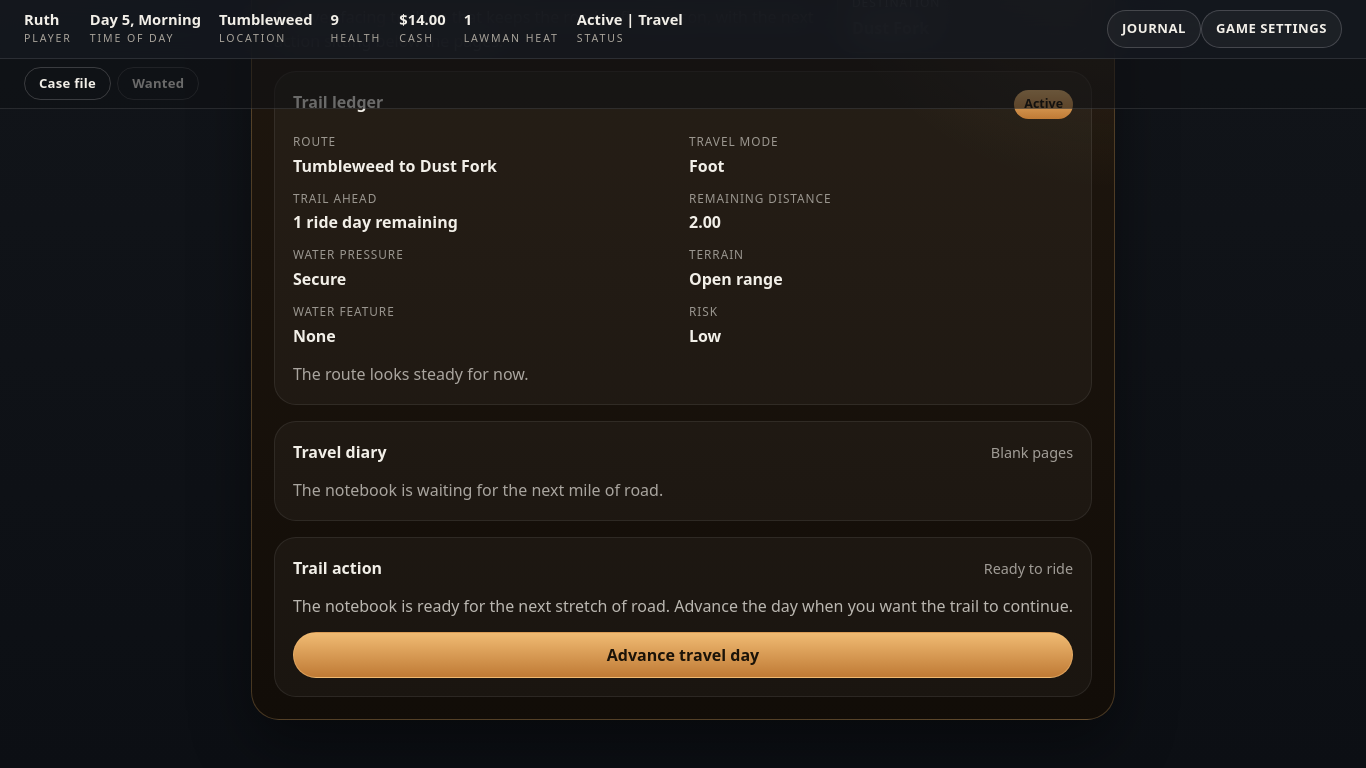
Test: AppShell › shows a travel mutation in both the HUD and trail summary while the session refresh is pending
The width and height of the screenshot is (1366, 768).
(page scrolled)
Check: the text "Day 5, Morning" is shown, box [90, 11, 201, 29]
Check: the text "Trail ledger" is shown, box [293, 90, 383, 114]
Click the button "Advance travel day" at (683, 655), box [293, 632, 1073, 678]
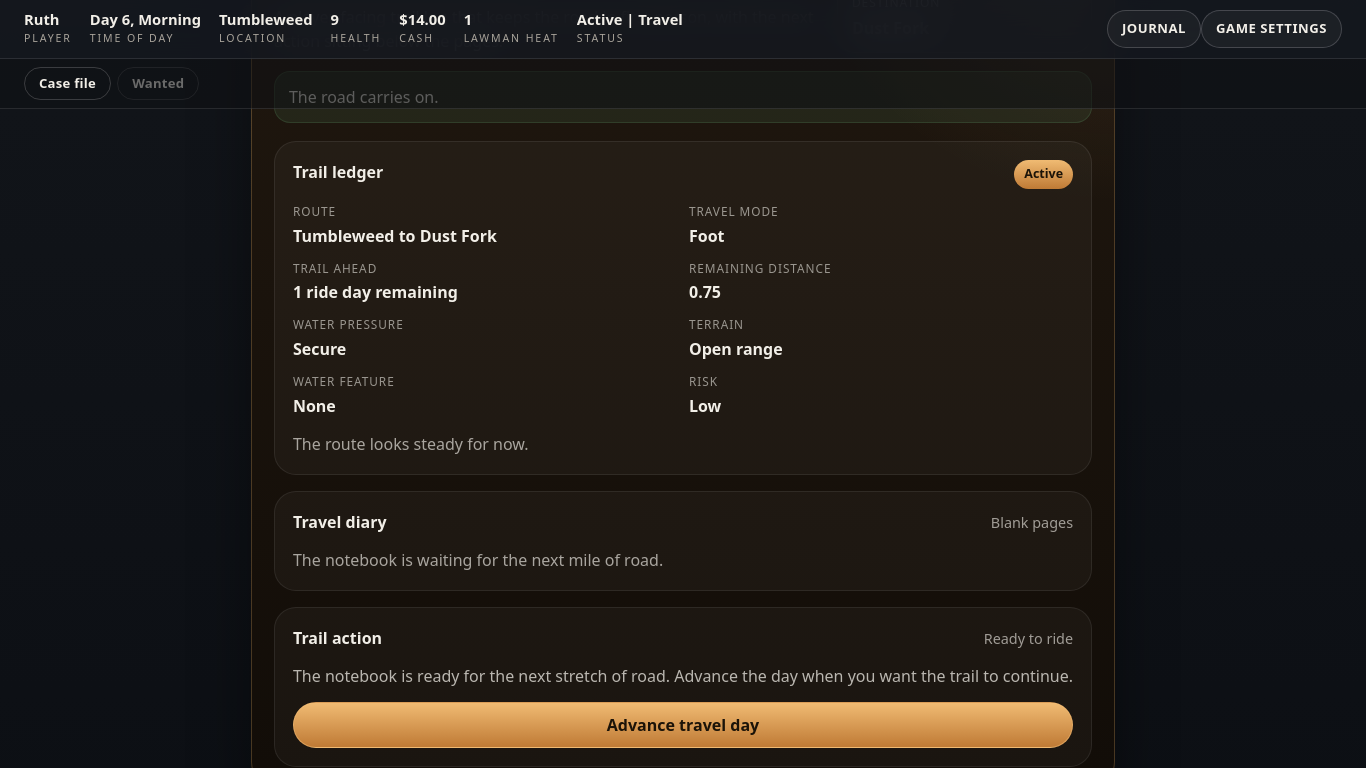
Check: the text "Day 6, Morning" is shown, box [90, 11, 201, 29]
Check: the text "0.75" is shown, box [689, 281, 721, 303]
